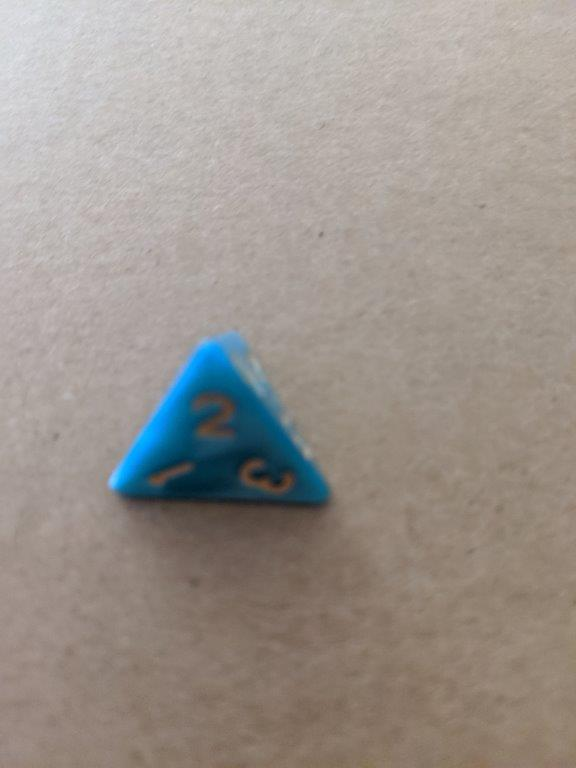d4-2: (100, 325, 334, 519)
